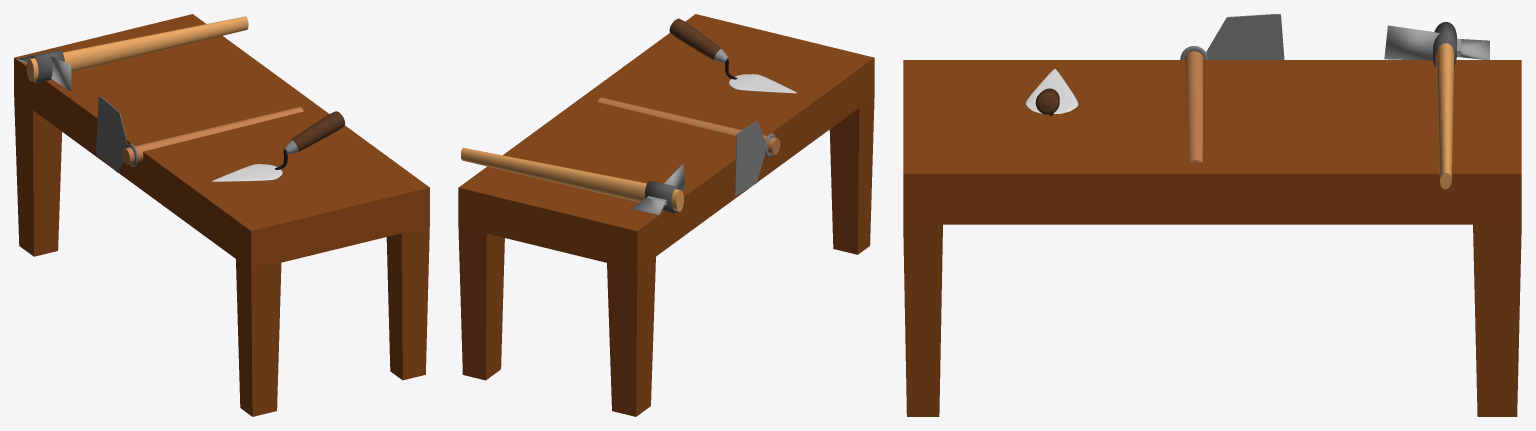
File: table with tools.fbx
3 views of the same model, side by side, from view 1: azimuth 30°, elevation 25°; view 2: azimuth 150°, elevation 25°; view 3: azimuth 270°, elevation 25° (orthographic). The views are drawn at different scales.
Visible parts, largest first — view 1: Cube, handle cover, Plane, Cylinder, Circle, Cube.001; view 2: Cube, handle cover, Plane, Cylinder, Circle, Cube.001; view 3: Cube, handle cover, Plane, Cylinder, Cube.001.
Boxes of the visible parts, x1,y1,x2,y2 form: Cube: (14,14,429,416); handle cover: (16,16,248,91); Plane: (96,95,127,172); Cylinder: (122,107,303,164); Circle: (291,111,345,151); Cube.001: (212,164,282,181); Cube: (458,14,874,416); handle cover: (461,147,685,215); Plane: (734,121,765,195); Cylinder: (597,97,780,154); Circle: (669,18,722,60); Cube.001: (729,74,796,93); Cube: (903,60,1521,416); handle cover: (1384,22,1489,189); Plane: (1206,14,1284,59); Cylinder: (1184,51,1204,162); Cube.001: (1025,69,1078,113).
Size of the model in its own units: 106 by 108 by 200.
